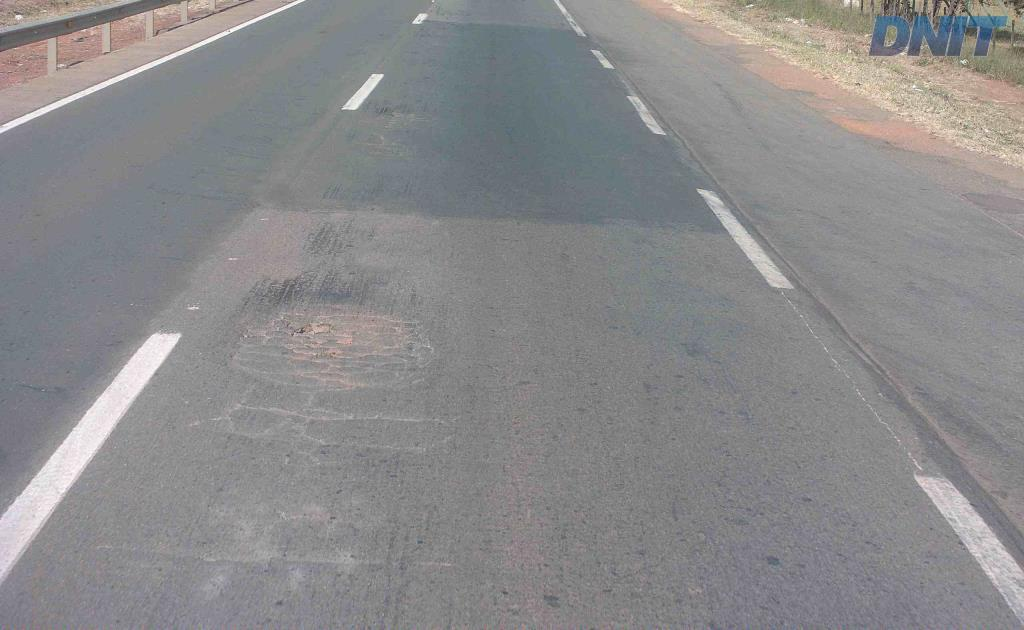pothole: (294, 320, 334, 338)
